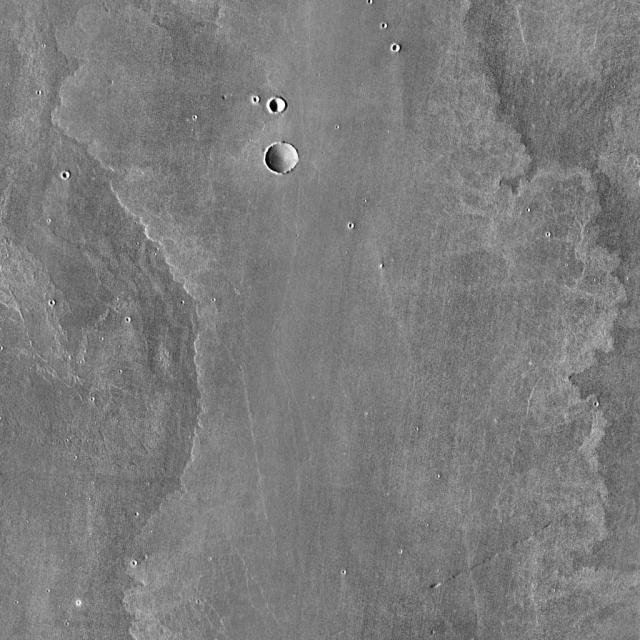crater: (269, 142, 302, 174), (274, 97, 290, 112), (396, 42, 404, 49), (58, 162, 65, 170)
